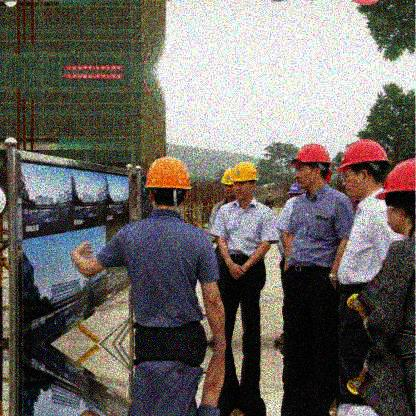helmet: (336, 138, 390, 200), (374, 155, 416, 234), (142, 156, 193, 213), (289, 143, 332, 191), (230, 160, 259, 200), (220, 167, 237, 197), (267, 194, 272, 199)
